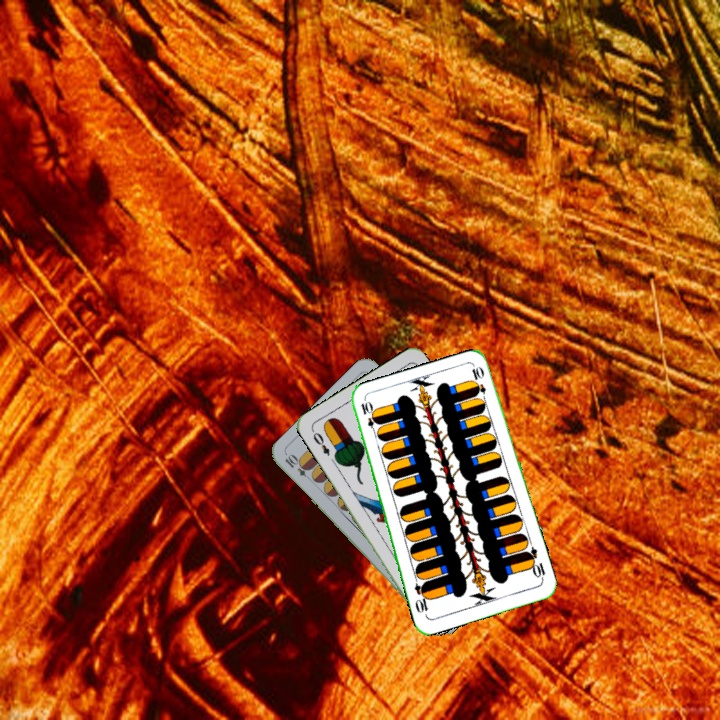E10: (281, 451, 316, 484), (522, 544, 548, 583), (357, 398, 380, 437)
EO: (308, 426, 332, 458)
